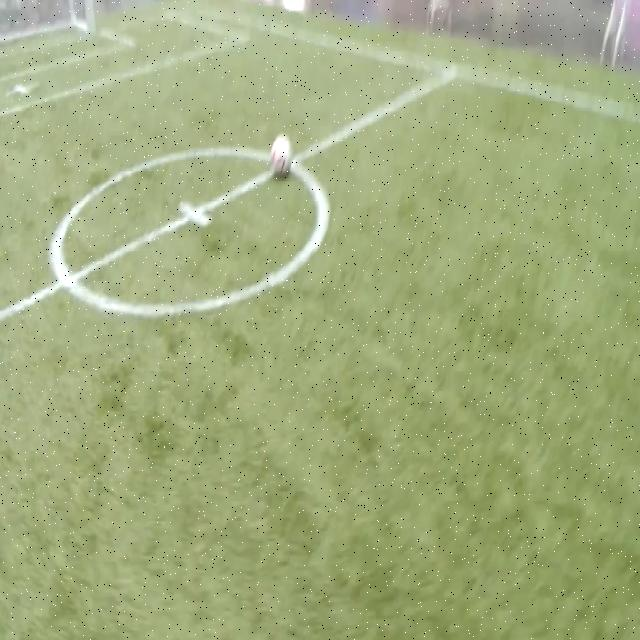ball: (271, 131, 291, 180)
goalpost: (81, 1, 98, 38)
